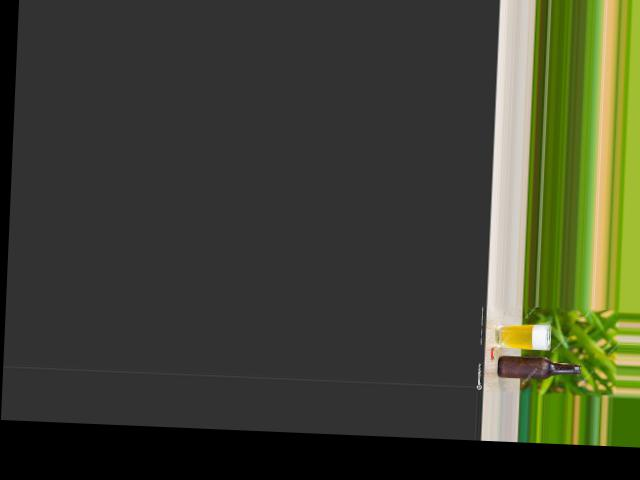beer: (497, 355, 581, 379)
